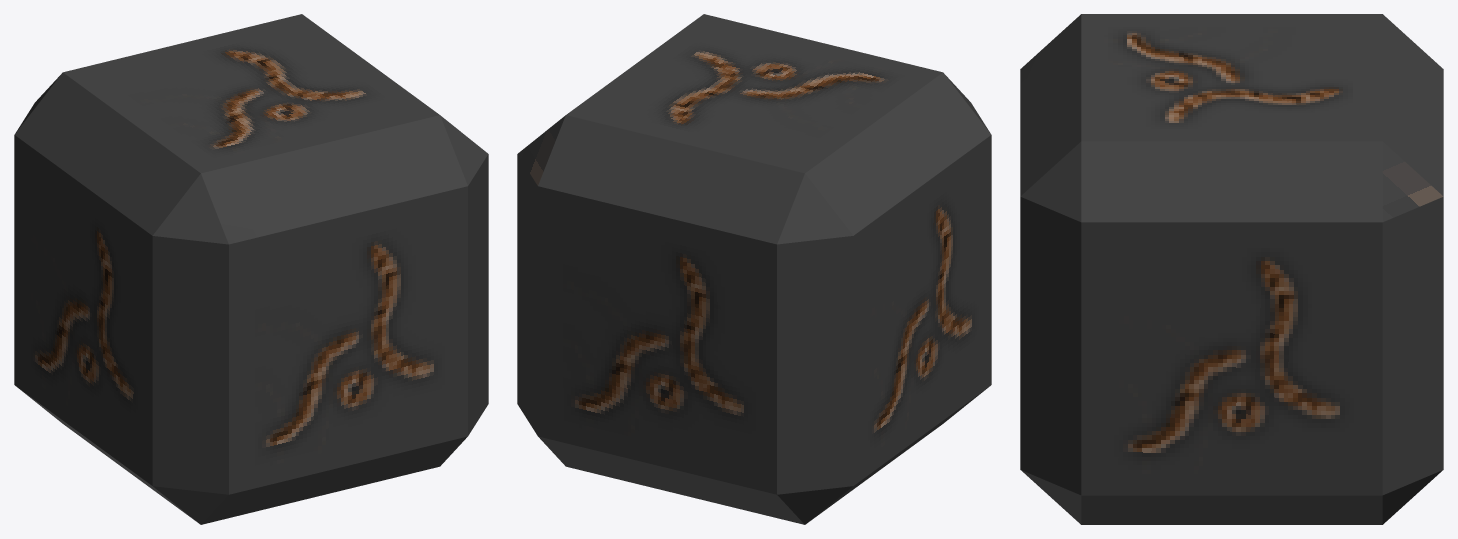
3 renders of one model, left to right at view 1: azimuth 30°, elevation 25°; view 2: azimuth 150°, elevation 25°; view 3: azimuth 270°, elevation 25°, orthographic. The views are drawn at different scales.
Visible parts, largest first — view 1: Symbol; view 2: Symbol; view 3: Symbol.
Part boxes in pixels (bbox=[...]): Symbol: bbox=[14, 14, 488, 524]; Symbol: bbox=[517, 14, 991, 524]; Symbol: bbox=[1020, 14, 1443, 524].
Size of the model in its own units: 200 by 200 by 200.
Materials: 1 (1 with a texture image).
